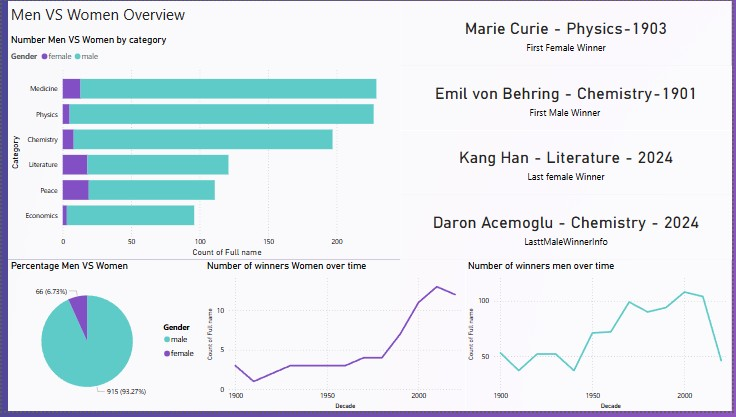

The page's visual inventory and layout, read from the dashboard file:
{"tool":"powerbi","page":{"name":"Men vs Women","canvas":[1280,720],"ordinal":1},"visuals":[{"type":"barChart","title":"Number Men VS Women by category","fields":{"Category":["nobel-prize-laureates.Category"],"Y":["nobel-prize-laureates.Full name"],"Series":["nobel-prize-laureates.Gender"]},"box":[10.5,57.9,687.7,396.5],"z":0},{"type":"card","fields":{"Values":["_Measures.FirstFemaleWinnerInfo"]},"box":[698.2,0,582.5,114],"z":1000},{"type":"card","fields":{"Values":["_Measures.FirstMaleWinnerInfo"]},"box":[697.6,113.5,582.6,113.5],"z":2000},{"type":"card","fields":{"Values":["_Measures.LasttfemaleWinnerInfo"]},"box":[697.6,227.1,582.6,113.5],"z":3000},{"type":"card","fields":{"Values":["_Measures.LasttMaleWinnerInfo"]},"box":[697.6,340.6,582.6,113.5],"z":4000},{"type":"pieChart","title":"Percentage Men VS Women","fields":{"Category":["nobel-prize-laureates.Gender"],"Y":["nobel-prize-laureates.Full name"]},"box":[10.5,454.1,343.6,265.9],"z":5000},{"type":"lineChart","title":"Number of winners  Women over time","fields":{"Category":["nobel-prize-laureates.Decade"],"Y":["nobel-prize-laureates.Full name"],"Series":["nobel-prize-laureates.Gender"]},"box":[354,454.1,458.6,265.9],"z":6000},{"type":"lineChart","title":"Number of winners  men over time","fields":{"Category":["nobel-prize-laureates.Decade"],"Y":["nobel-prize-laureates.Full name"],"Series":["nobel-prize-laureates.Gender"]},"box":[812.6,454.1,467.6,265.9],"z":7000},{"type":"textbox","box":[10.5,0,687.7,57.9],"z":8000}]}

Visuals, with their boxes in screenshot pixels (x1, y1, x2, y2), scaled from the page's 1280x720 canvas onto the 736x417 screenshot:
"Number Men VS Women by category" barChart: <region>6, 34, 401, 263</region>
card - _Measures.FirstFemaleWinnerInfo: <region>401, 0, 735, 66</region>
card - _Measures.FirstMaleWinnerInfo: <region>401, 66, 735, 131</region>
card - _Measures.LasttfemaleWinnerInfo: <region>401, 132, 735, 197</region>
card - _Measures.LasttMaleWinnerInfo: <region>401, 197, 735, 263</region>
"Percentage Men VS Women" pieChart: <region>6, 263, 204, 416</region>
"Number of winners  Women over time" lineChart: <region>204, 263, 467, 416</region>
"Number of winners  men over time" lineChart: <region>467, 263, 735, 416</region>
textbox: <region>6, 0, 401, 34</region>
